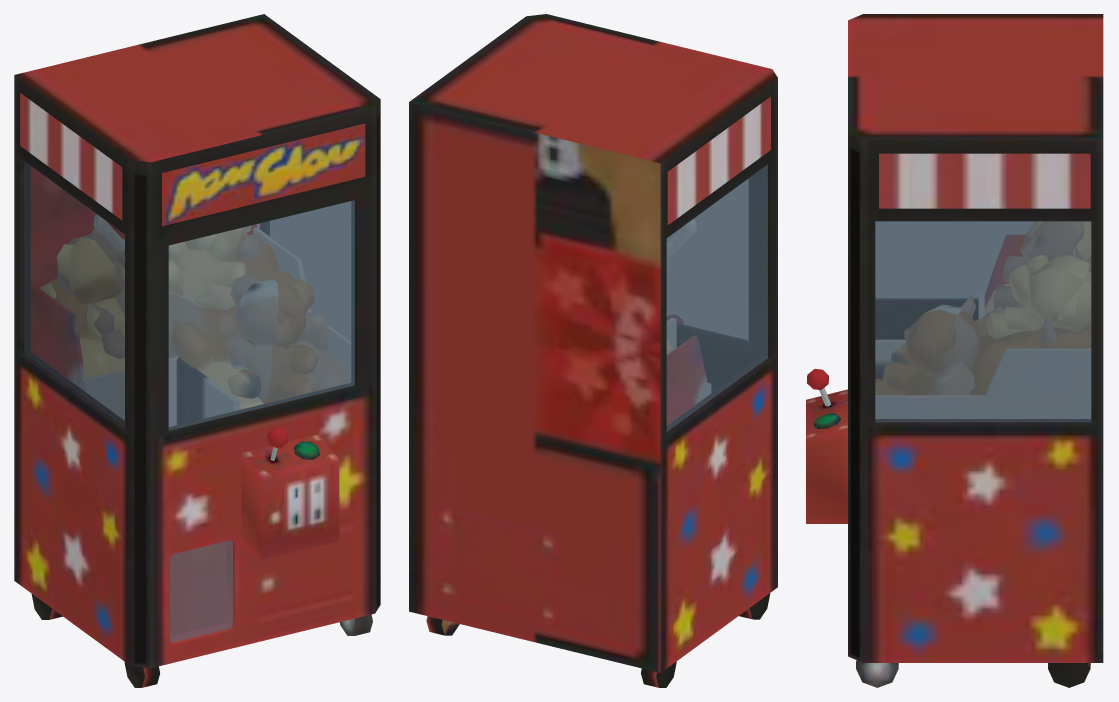
The picture shows the model from 3 angles, left to right: view 1: azimuth 30°, elevation 25°; view 2: azimuth 150°, elevation 25°; view 3: azimuth 270°, elevation 25°; orthographic projection. The views are drawn at different scales.
Bounding box in the file's own units: 9.86 × 20.08 × 9.83.
4 materials, 3 textured.
